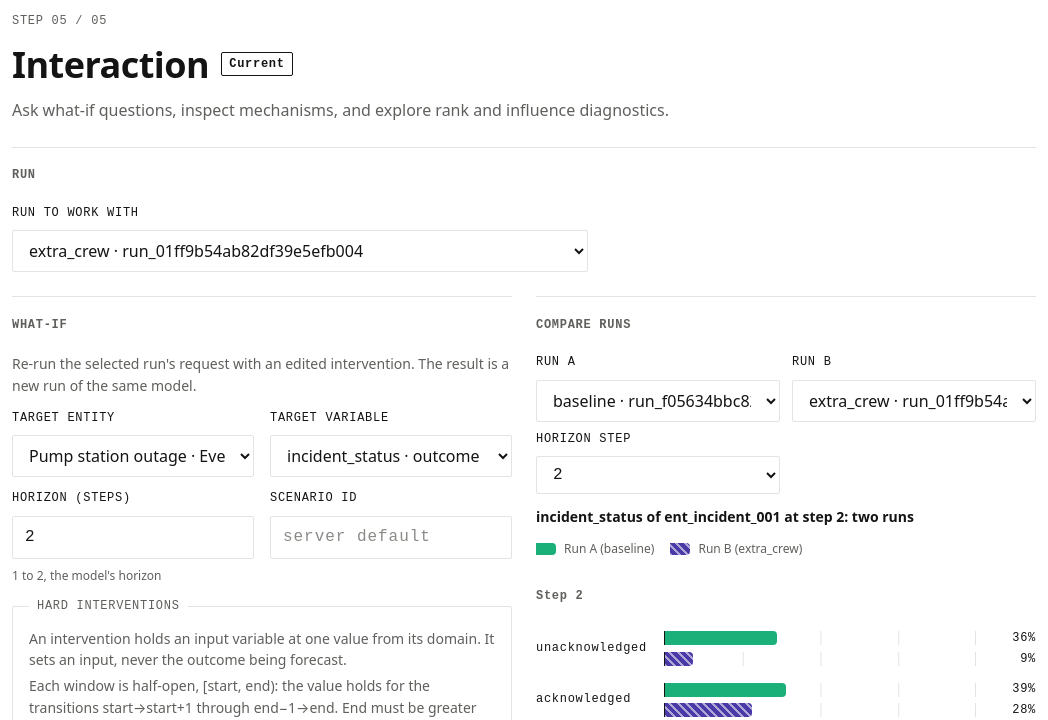
Step5Interaction › compares two runs at the final step and labels B − A as a difference between two model runs
expect the dropdown with test id "compare-a" shows "baseline · run_f05634bbc825c193afd9a780": met, box [536, 380, 780, 422]
expect the dropdown with test id "compare-b" shows "extra_crew · run_01ff9b54ab82df39e5efb004": met, box [792, 380, 1036, 422]
Select "1" in the dropdown with test id "compare-step" at (658, 475), box [536, 456, 780, 494]
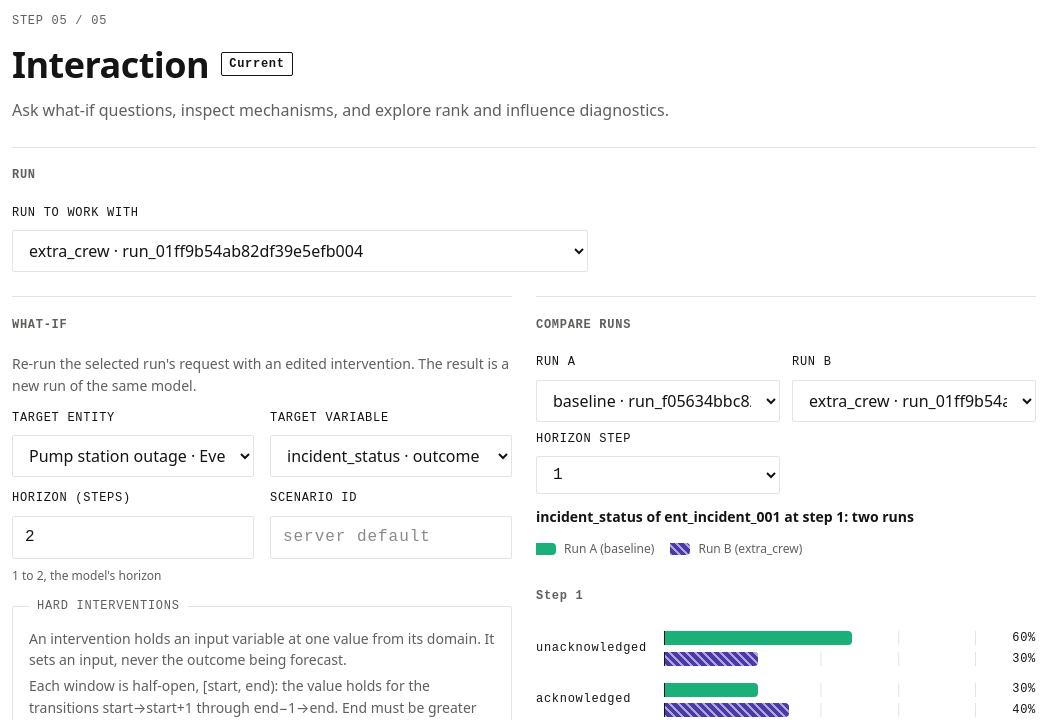
Select "1" in the dropdown with test id "compare-step" at (658, 475), box [536, 456, 780, 494]
Select "extra_crew · run_01ff9b54ab82df39e5efb004" in the dropdown with test id "compare-a" at (658, 401), box [536, 380, 780, 422]
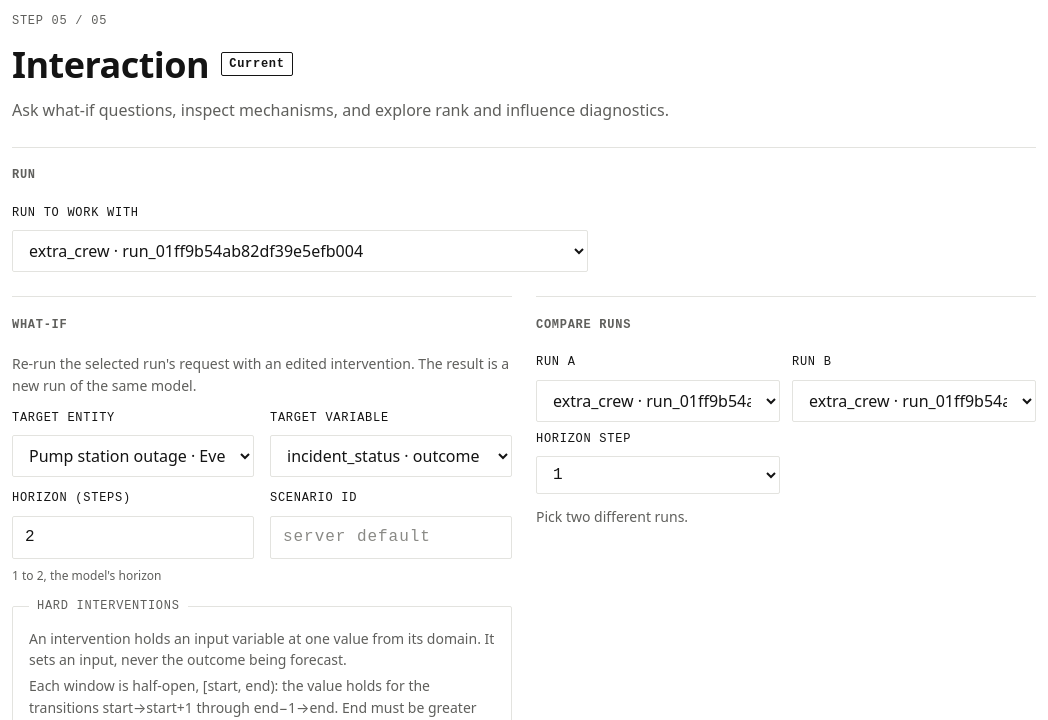
expect the text with test id "compare-same" shows "two different runs": met, box [536, 507, 688, 526]
